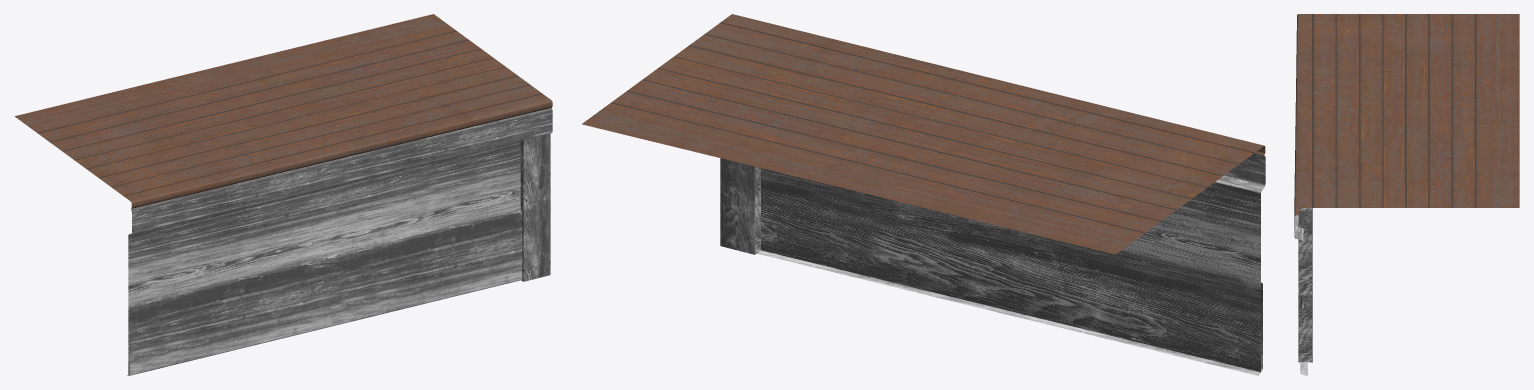
The model's file is SM_Base_Top_B1.fbx.
The picture shows the model from 3 angles, left to right: view 1: azimuth 30°, elevation 25°; view 2: azimuth 150°, elevation 25°; view 3: azimuth 270°, elevation 25°; orthographic projection. The views are drawn at different scales.
Parts seen in each view (by area): view 1: SM_Base_Top_B1; view 2: SM_Base_Top_B1; view 3: SM_Base_Top_B1.
Part boxes in pixels (x1,y1,x2,y2): SM_Base_Top_B1: (15,14,552,375); SM_Base_Top_B1: (582,14,1265,375); SM_Base_Top_B1: (1294,14,1519,375).
Bounding box in the file's own units: 294 × 144 × 119.
Materials: 3 (3 with a texture image).
